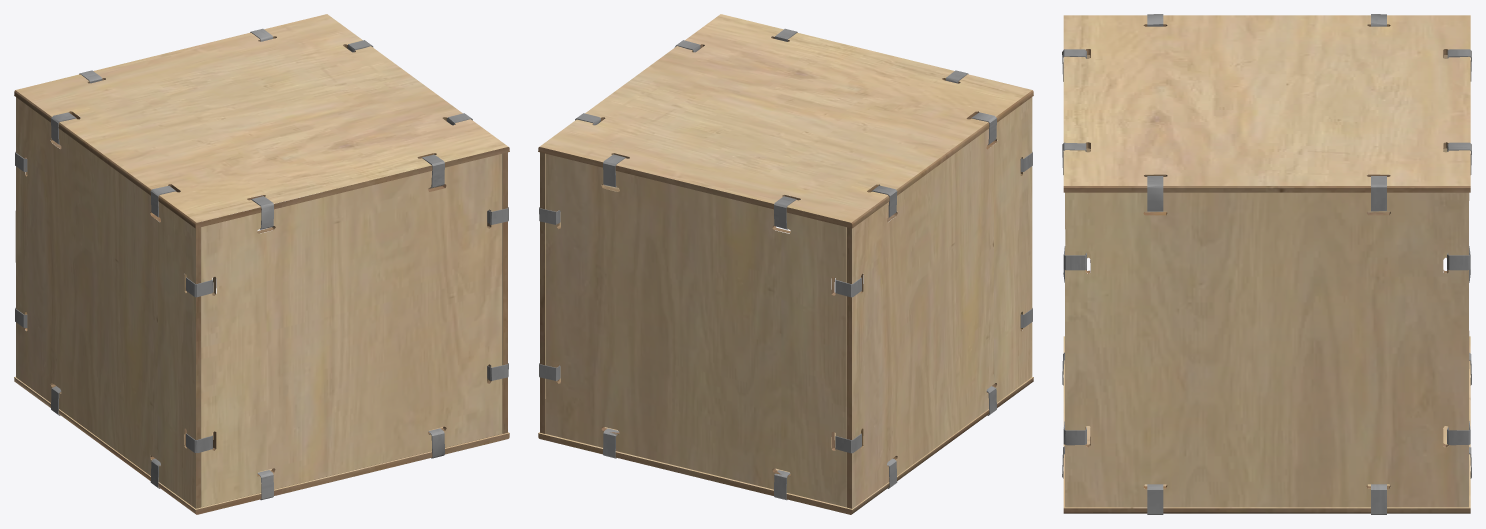
The model's file is heavydutywoodcrate_a01.glb.
3 views of the same model, side by side, from view 1: azimuth 30°, elevation 25°; view 2: azimuth 150°, elevation 25°; view 3: azimuth 270°, elevation 25° (orthographic). The views are drawn at different scales.
Visible parts, largest first — view 1: root; view 2: root; view 3: root.
Boxes of the visible parts, x1,y1,x2,y2 form: root: [14, 14, 509, 514]; root: [538, 14, 1033, 514]; root: [1062, 14, 1471, 514].
Bounding box in the file's own units: 0.9031 × 0.8066 × 0.9069.
3 materials, 3 textured.
